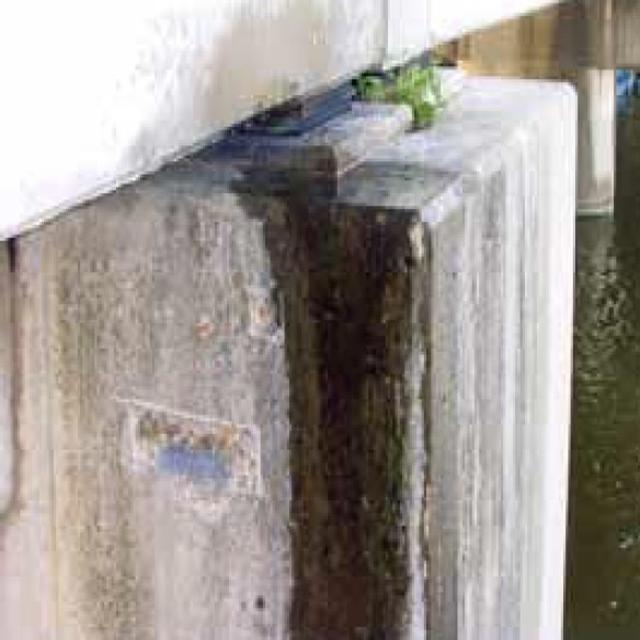leakage: (252, 132, 438, 638)
